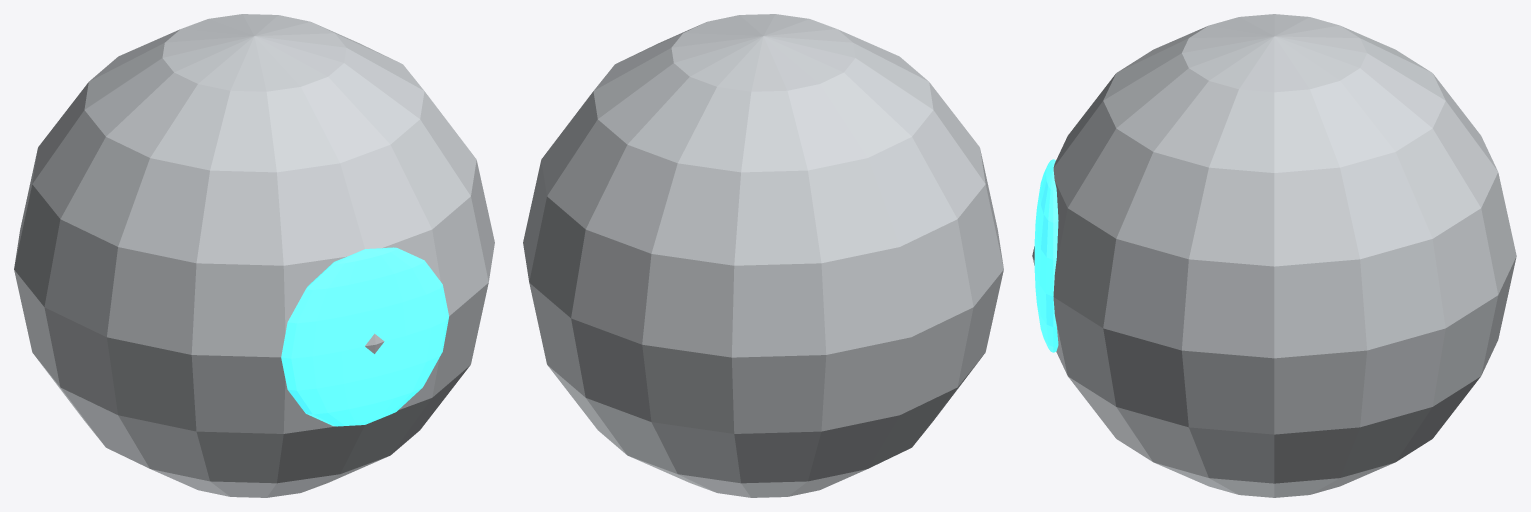
Rendered from eye_emission_fixture.glb.
3 renders of one model, left to right at view 1: azimuth 30°, elevation 25°; view 2: azimuth 150°, elevation 25°; view 3: azimuth 270°, elevation 25°, orthographic.
Visible parts, largest first — view 1: EyeBase, EyeEmissionIris; view 2: EyeBase; view 3: EyeBase, EyeEmissionIris.
Part boxes in pixels (x1=…): EyeBase: x1=14, y1=14, x2=494, y2=497; EyeEmissionIris: x1=281, y1=247, x2=448, y2=426; EyeBase: x1=523, y1=14, x2=1003, y2=497; EyeBase: x1=1032, y1=14, x2=1516, y2=497; EyeEmissionIris: x1=1034, y1=159, x2=1058, y2=352.
Size of the model in its own units: 1.6 by 1.6 by 1.6.
